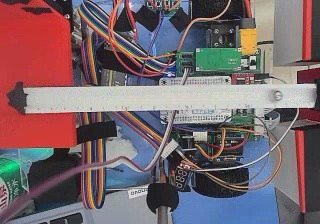ironball: (271, 89, 283, 100)
